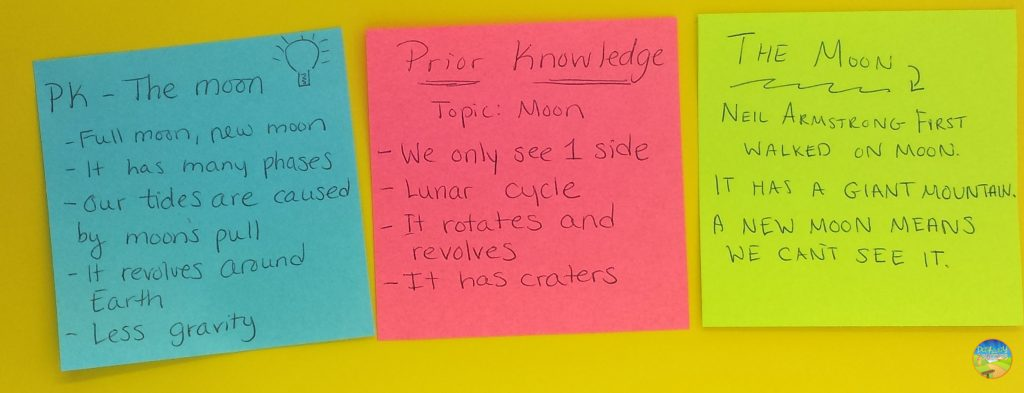Note: (38, 30, 373, 376), (367, 19, 691, 338), (699, 12, 1024, 326)
